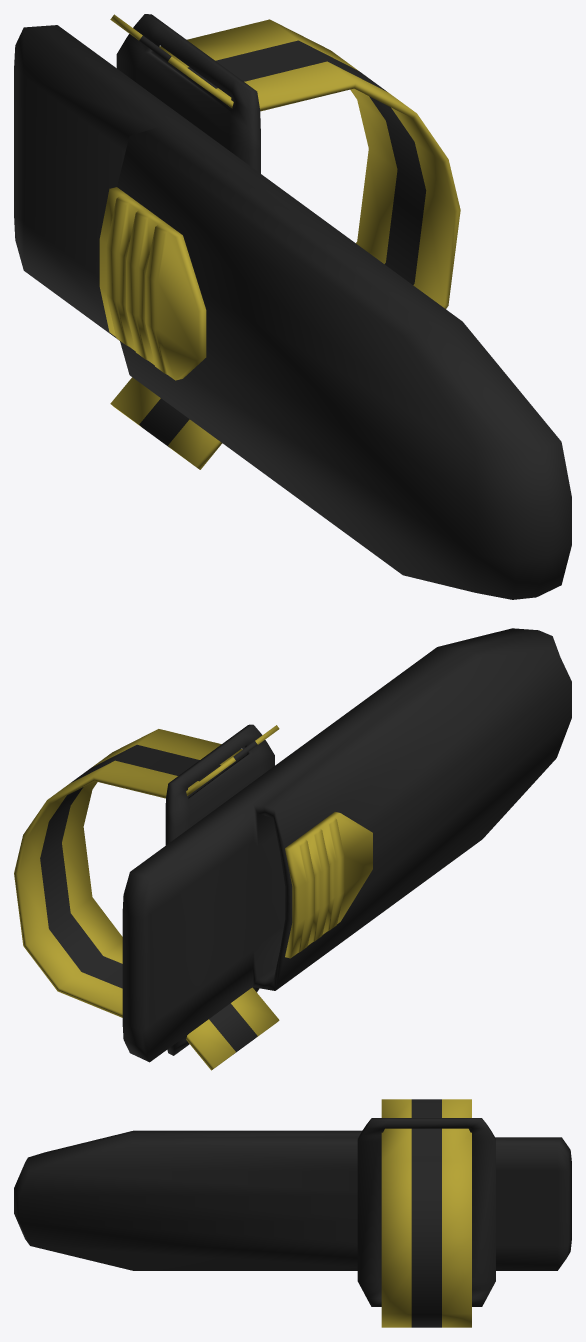
Rendered from holster.glb.
The picture shows the model from 3 angles, top to bottom: view 1: azimuth 30°, elevation 25°; view 2: azimuth 150°, elevation 25°; view 3: azimuth 270°, elevation 25°; orthographic projection. The views are drawn at different scales.
Visible parts, largest first — view 1: Holster; view 2: Holster; view 3: Holster.
Part boxes in pixels (box(x1,y1,x2,y2)): Holster: box(14, 14, 571, 599); Holster: box(14, 628, 571, 1070); Holster: box(14, 1099, 571, 1327).
Size of the model in its own units: 0.086 by 0.0986 by 0.2425.
Materials: 1 (1 with a texture image).
